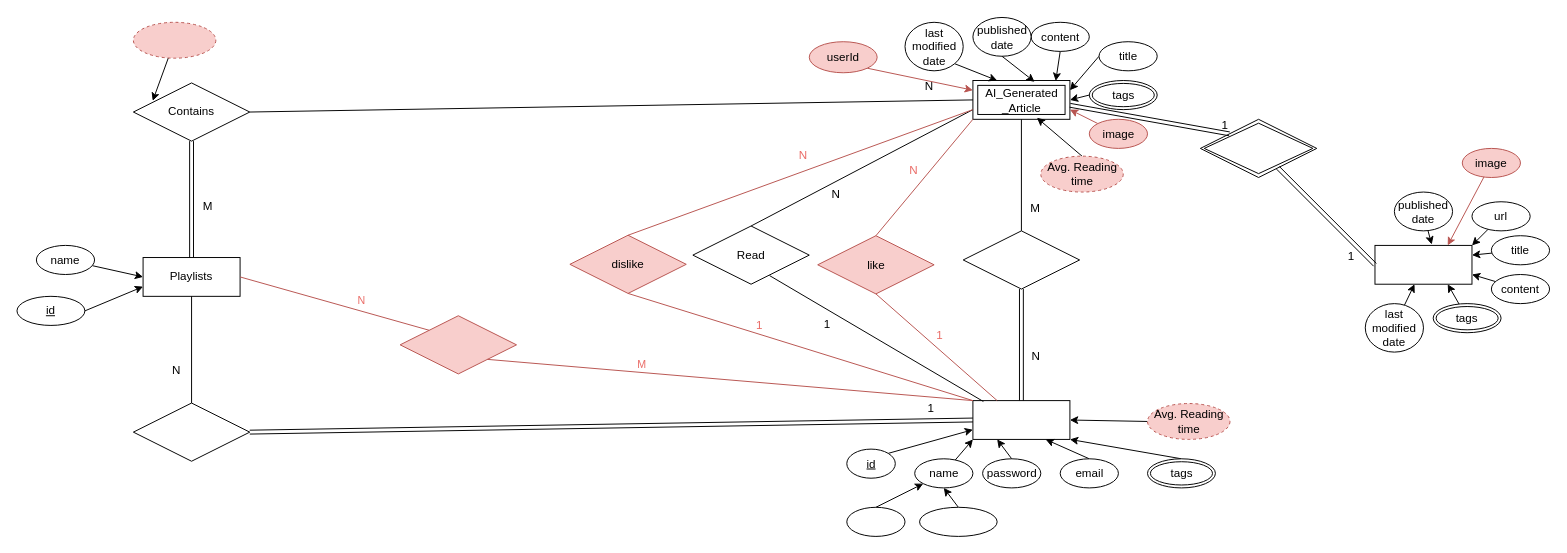
The diagram is 1567 pixels wide and 553 high, and some of its shapes have lost their labels. Each missing label, with the centre of its shape:
"Article_count" goes at pixel 174 39.
"first_name" goes at pixel 875 521.
"followers" goes at pixel 458 344.
"Generate_Article" goes at pixel 1258 148.
"Own" goes at pixel 191 431.
"Scraped_Article" goes at pixel 1423 264.
"second_name" goes at pixel 958 521.
"Showed_to" goes at pixel 1021 259.
"User" goes at pixel 1021 419.
